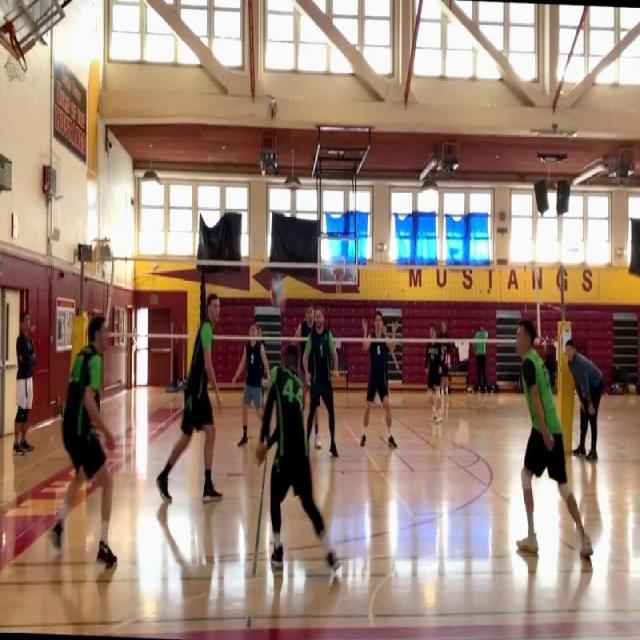volleyball: (270, 281, 286, 308)
